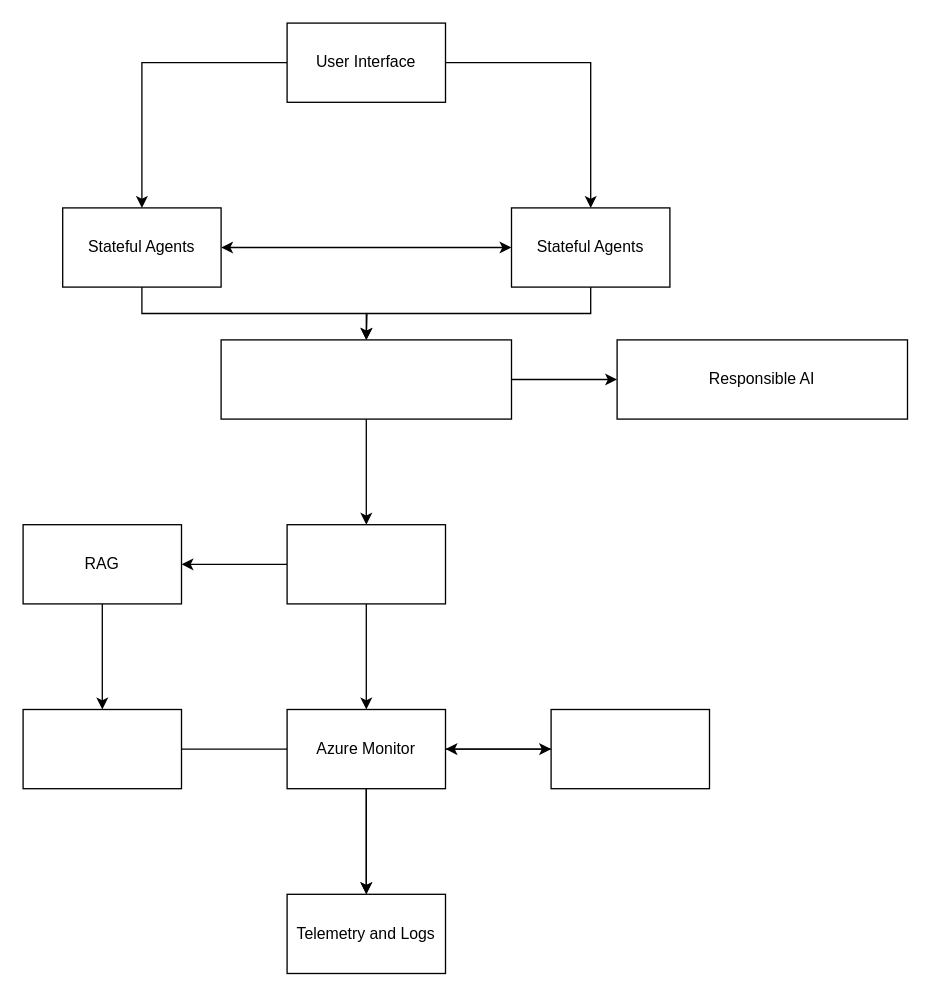
The diagram is 931 pixels wide and 997 high, and some of its shapes have lost their labels. Here are the shapes that lost their labels. From the top down, the centre of each, then its label:
At (x=366, y=379): "Azure AI Foundry Orchestrator".
At (x=366, y=563): "Azure AI Search".
At (x=102, y=748): "Blob Storage".
At (x=630, y=748): "Audit Logs".
